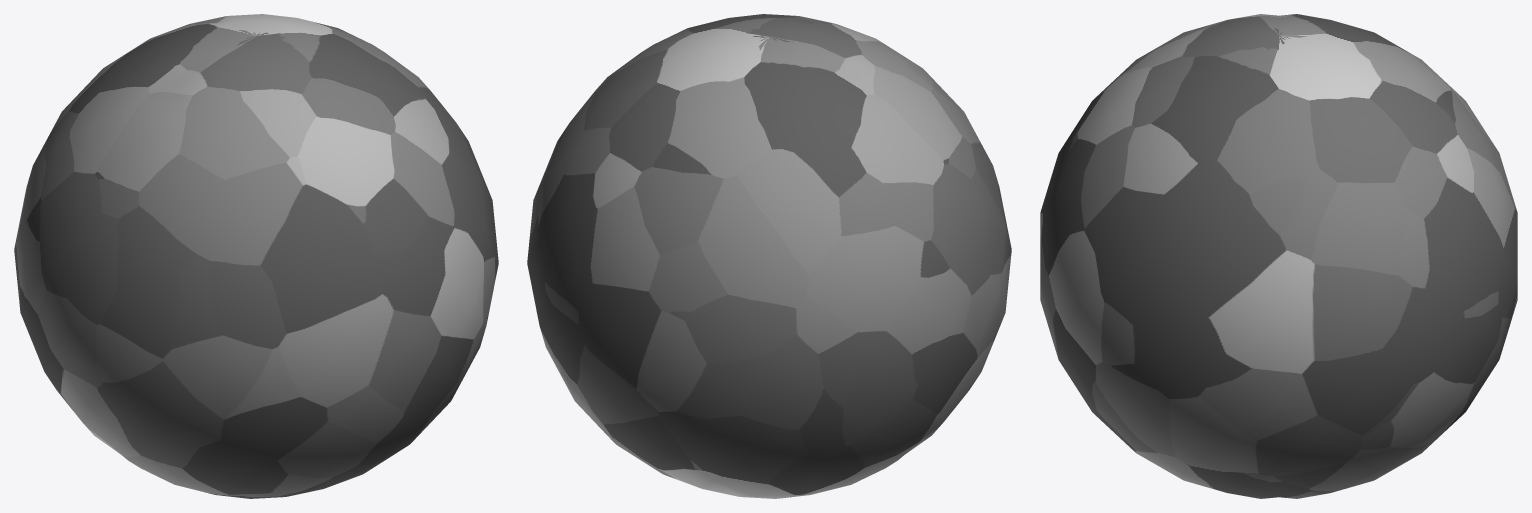
Rendered from ComeSphere.glb.
3 views of the same model, side by side, from view 1: azimuth 30°, elevation 25°; view 2: azimuth 150°, elevation 25°; view 3: azimuth 270°, elevation 25° (orthographic).
Parts seen in each view (by area): view 1: 球体; view 2: 球体; view 3: 球体.
Part boxes in pixels (x1=…): 球体: x1=14, y1=14, x2=498, y2=498; 球体: x1=527, y1=14, x2=1011, y2=498; 球体: x1=1040, y1=14, x2=1517, y2=498.
Bounding box in the file's own units: 1.94 × 1.98 × 1.94.
Materials: 1 (1 with a texture image).
